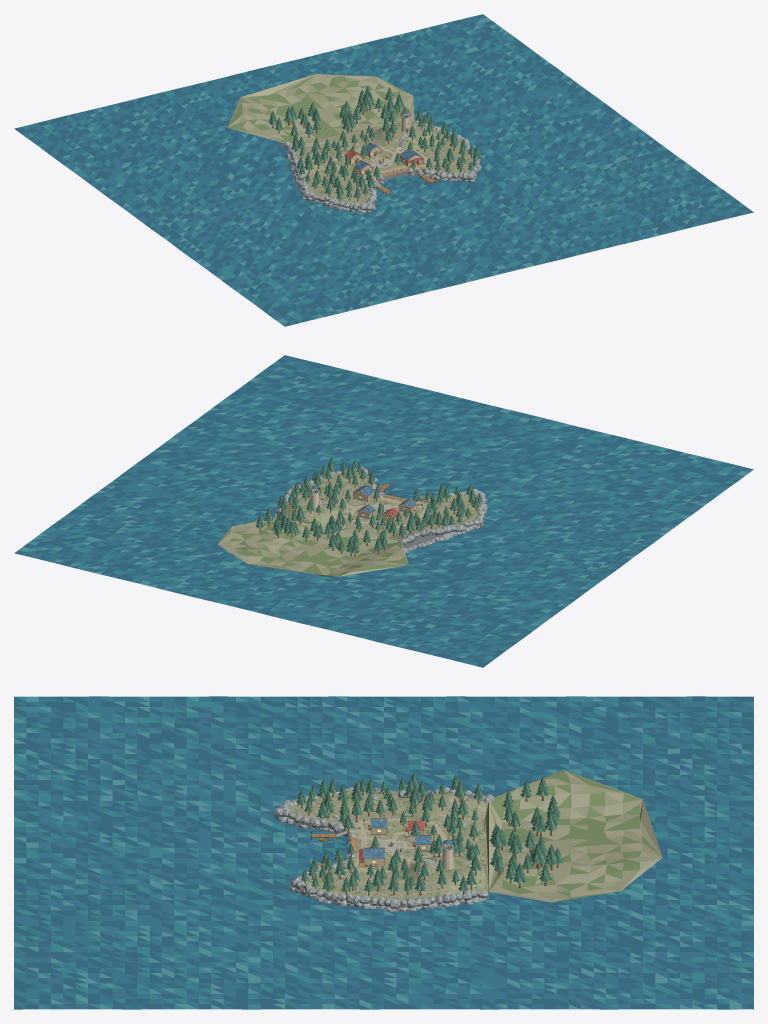
Rendered from Environment.fbx.
3 renders of one model, top to bottom at view 1: azimuth 30°, elevation 25°; view 2: azimuth 150°, elevation 25°; view 3: azimuth 270°, elevation 25°, orthographic. The views are drawn at different scales.
Parts seen in each view (by area): view 1: Water_Ocean_Pueblo, Terrain_North_BackdropConnection, Terrain_Playable_110x85; view 2: Water_Ocean_Pueblo, Terrain_North_BackdropConnection, Terrain_Playable_110x85; view 3: Water_Ocean_Pueblo, Terrain_North_BackdropConnection, Terrain_Playable_110x85.
Boxes of the visible parts, box(x1,y1,x2,y2) form: Water_Ocean_Pueblo: box(14, 14, 753, 326); Terrain_North_BackdropConnection: box(227, 74, 414, 143); Terrain_Playable_110x85: box(290, 120, 475, 208); Water_Ocean_Pueblo: box(14, 355, 753, 667); Terrain_North_BackdropConnection: box(217, 517, 408, 576); Terrain_Playable_110x85: box(284, 471, 480, 548); Water_Ocean_Pueblo: box(14, 696, 753, 1009); Terrain_North_BackdropConnection: box(489, 770, 662, 902); Terrain_Playable_110x85: box(288, 790, 488, 906).
Bounding box in the file's own units: 300 × 21.91 × 300.
